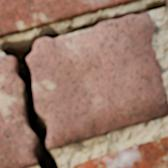brick: (0, 0, 135, 36), (73, 136, 167, 167)
broken_brick: (28, 12, 167, 149), (0, 55, 36, 167)
crack: (0, 0, 167, 167)
